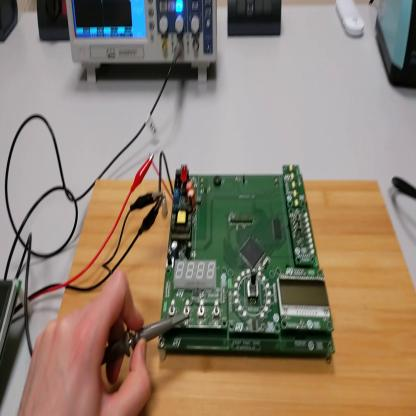hand: (21, 269, 152, 415)
low voltage board: (151, 155, 335, 359)
oscilloscope: (68, 1, 219, 83)
oscilloscope probe tip: (101, 317, 185, 369)
socket: (39, 2, 70, 44), (2, 2, 19, 45)
welder station: (376, 2, 416, 90)
working area: (81, 169, 416, 415)
